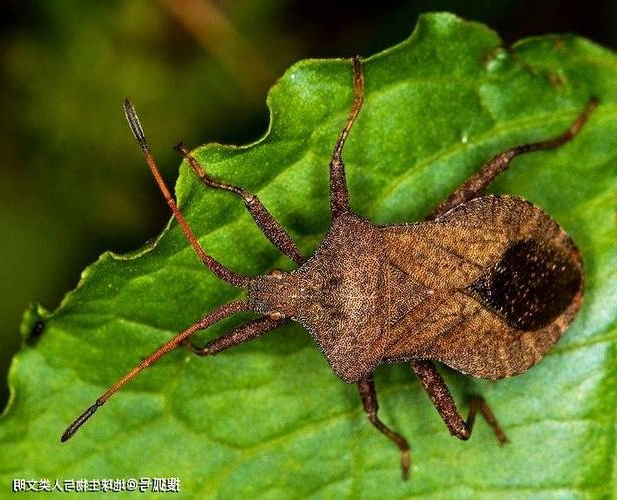Stink_Bug: (206, 197, 564, 373)
